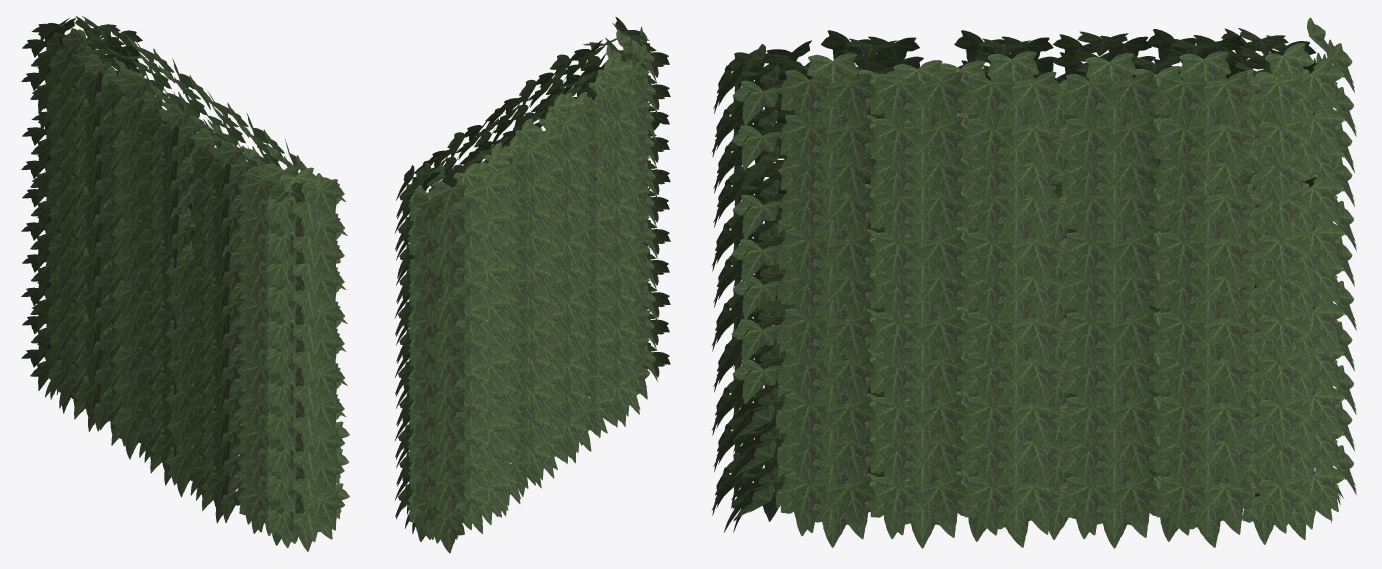
File: leaves_v3.FBX
The picture shows the model from 3 angles, left to right: view 1: azimuth 30°, elevation 25°; view 2: azimuth 150°, elevation 25°; view 3: azimuth 270°, elevation 25°; orthographic projection. The views are drawn at different scales.
Visible parts, largest first — view 1: Plane4850; view 2: Plane4850; view 3: Plane4850.
Part boxes in pixels (x1,y1,x2,y2): Plane4850: [21, 16, 349, 551]; Plane4850: [394, 17, 670, 553]; Plane4850: [711, 17, 1356, 548].
Size of the model in its own units: 811 by 2420 by 2971.
